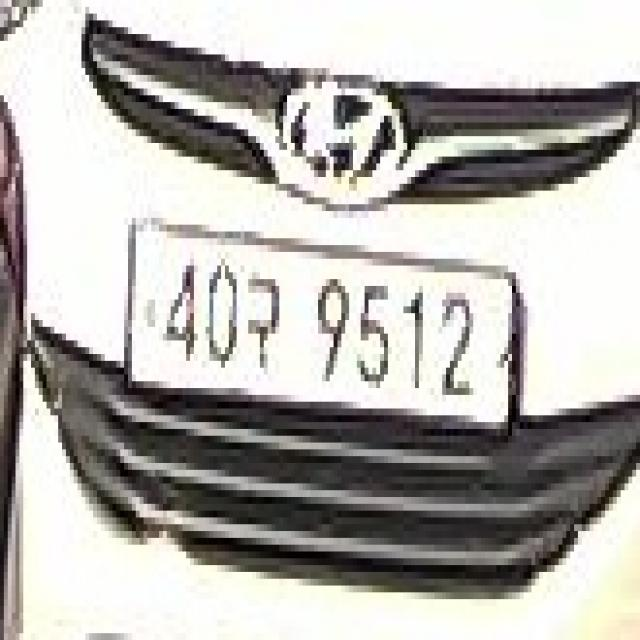0: (210, 259, 240, 374)
1: (400, 286, 430, 395)
2: (434, 293, 474, 402)
4: (155, 258, 202, 368)
5: (353, 279, 392, 395)
9: (314, 273, 353, 382)
gu: (241, 272, 283, 374)
license_plate: (124, 211, 520, 443)
